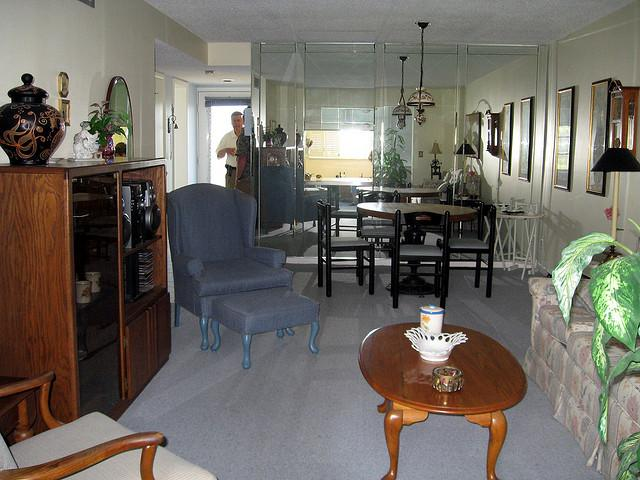cup: (75, 273, 98, 296)
